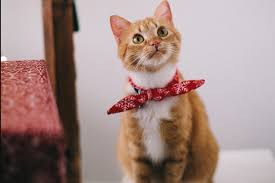cat: (109, 1, 182, 73)
